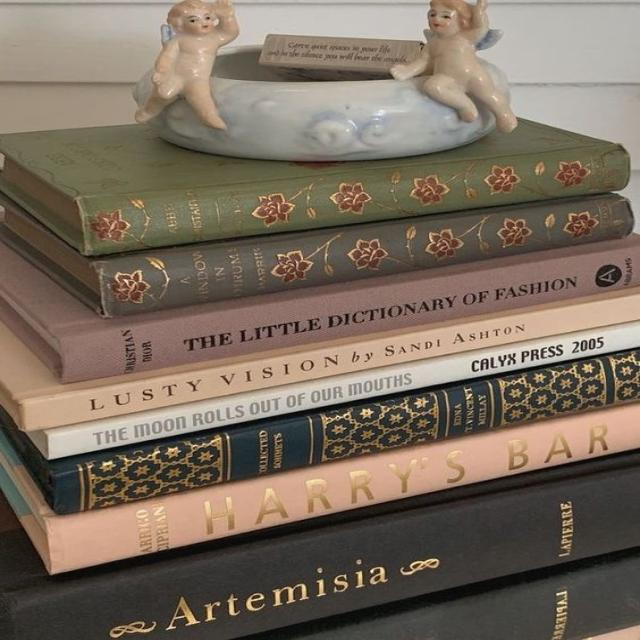book: (6, 464, 634, 640), (20, 405, 639, 573), (20, 350, 639, 513), (14, 293, 639, 430), (50, 243, 636, 384), (40, 323, 639, 458), (89, 196, 632, 316), (80, 140, 631, 255), (288, 556, 636, 640)
